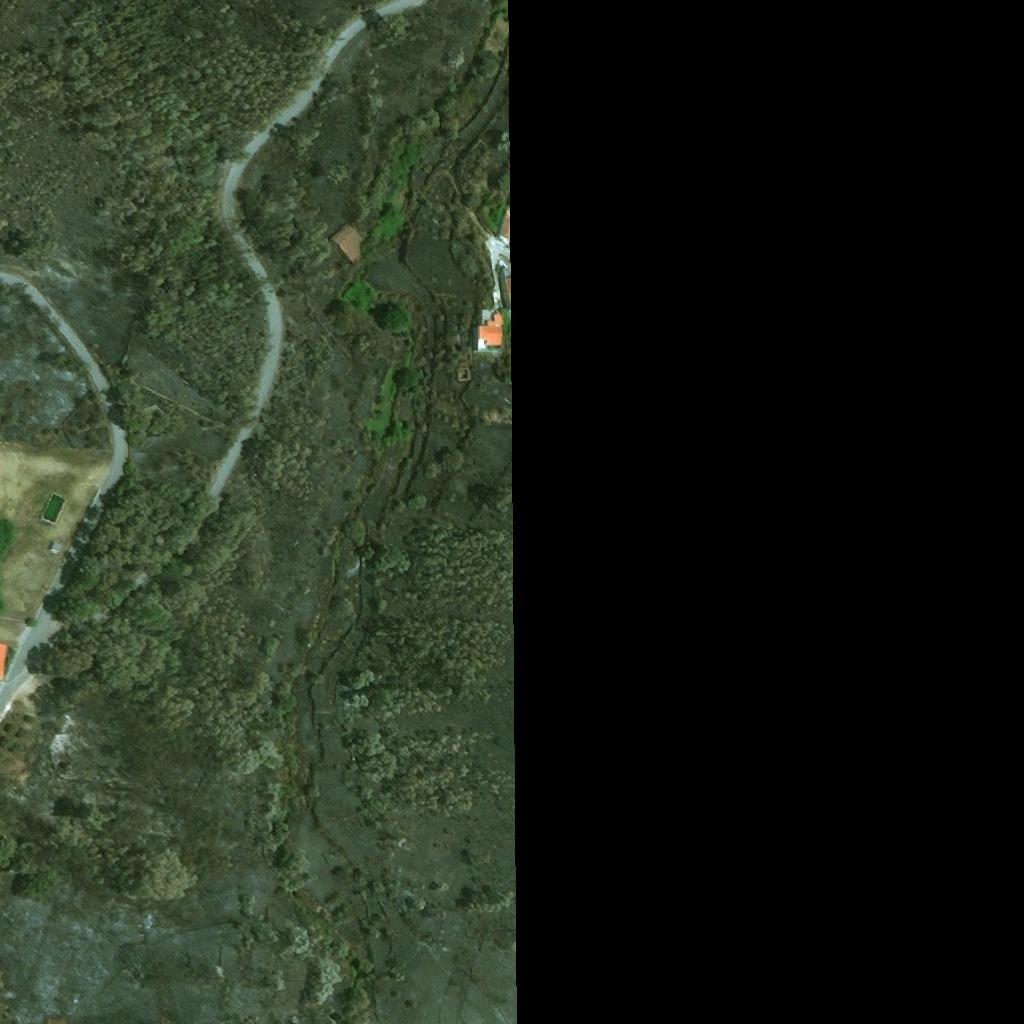0 no-damage: (329, 222, 369, 265), (476, 312, 503, 349), (0, 640, 8, 679), (50, 541, 62, 553)
4 un-classified: (495, 264, 516, 312), (497, 205, 515, 242)
